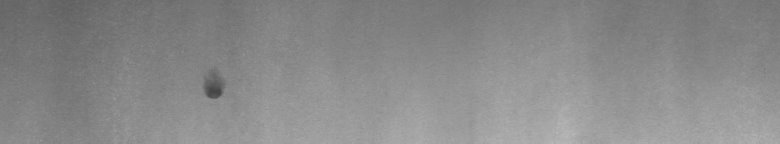fi: (199, 76, 228, 104)
